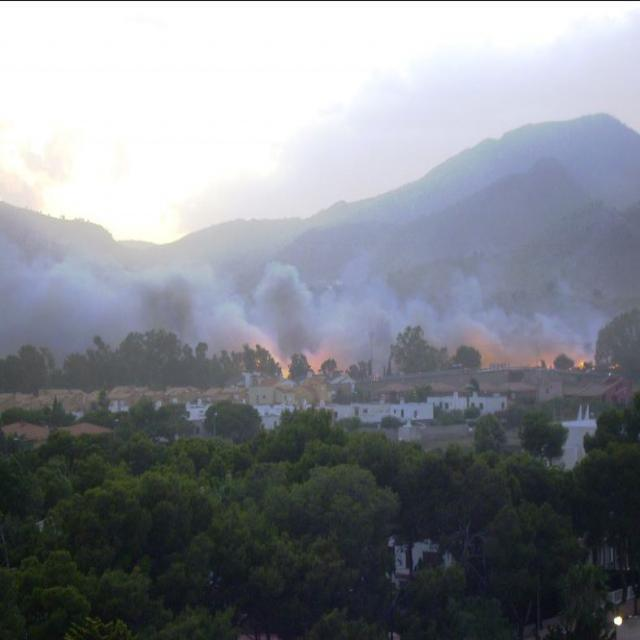Fire: (277, 362, 292, 378), (571, 356, 589, 369)
